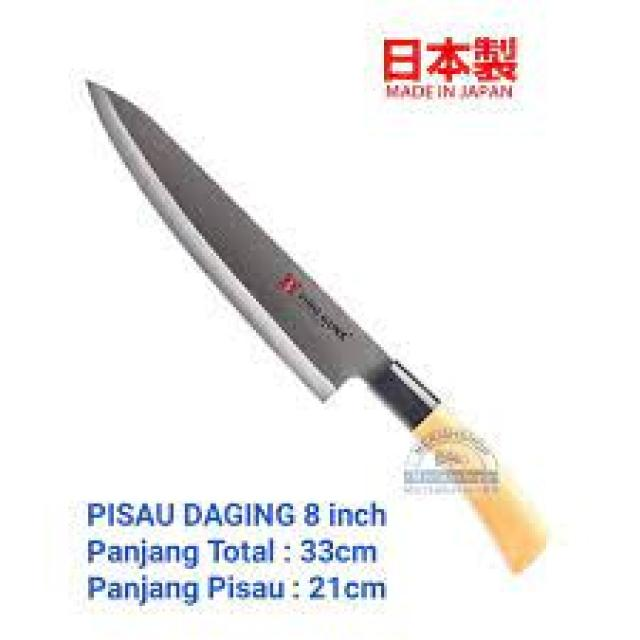Knife: (70, 54, 546, 573)
